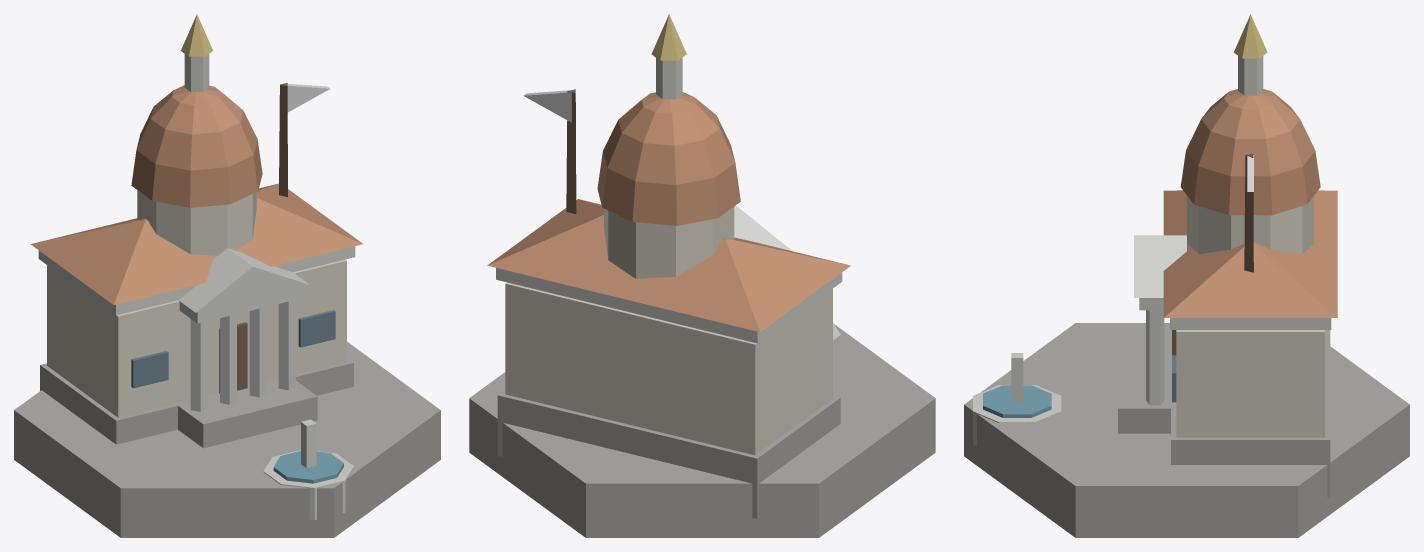
File: center-renaissance.glb
The picture shows the model from 3 angles, left to right: view 1: azimuth 30°, elevation 25°; view 2: azimuth 150°, elevation 25°; view 3: azimuth 270°, elevation 25°; orthographic projection. The views are drawn at different scales.
Visible parts, largest first — view 1: LOD0; view 2: LOD0; view 3: LOD0.
Boxes of the visible parts, <box> form: LOD0: <box>14,14,440,537</box>; LOD0: <box>469,14,935,537</box>; LOD0: <box>964,14,1409,537</box>.
Size of what is drawn, in the model's own units: 0.3637 by 0.46 by 0.42.
